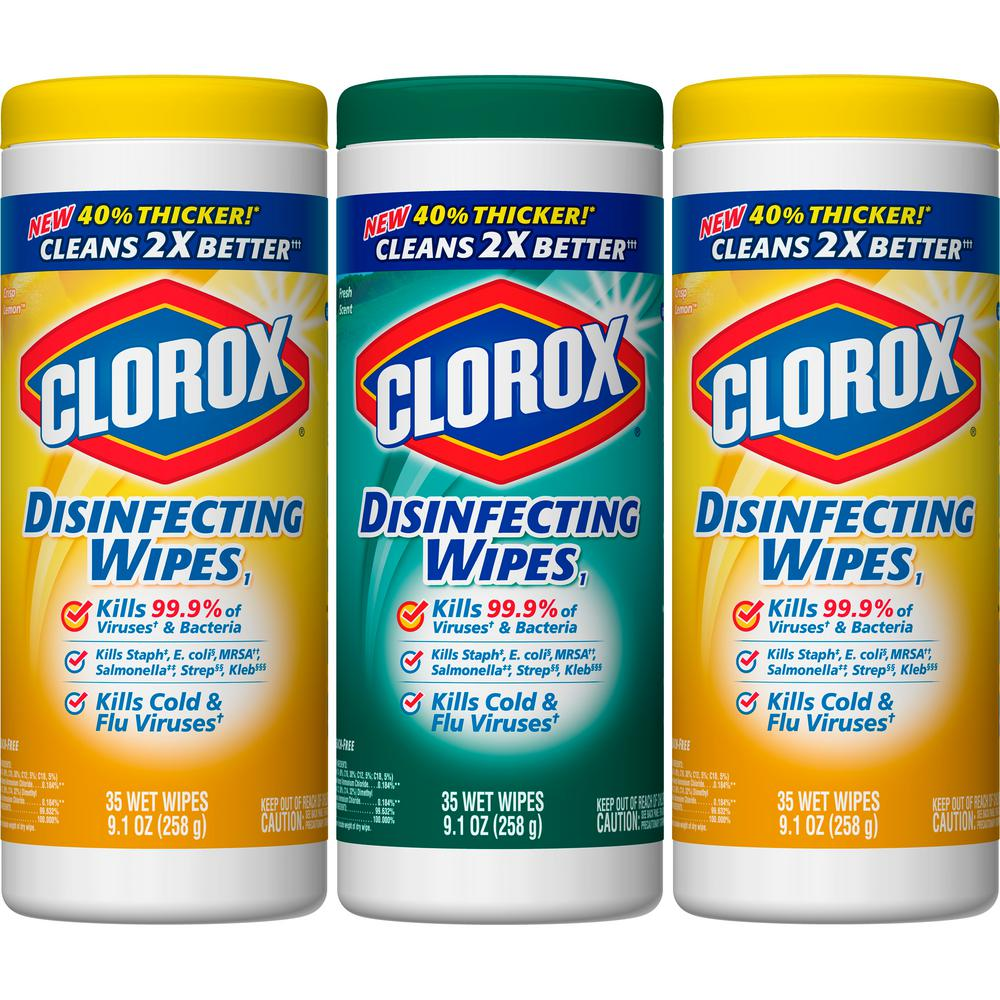Wipes: (328, 63, 672, 932), (666, 63, 1000, 920), (1, 69, 332, 929)
